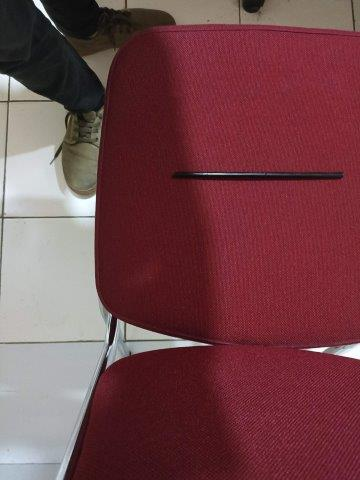sedotan: (173, 171, 343, 180)
